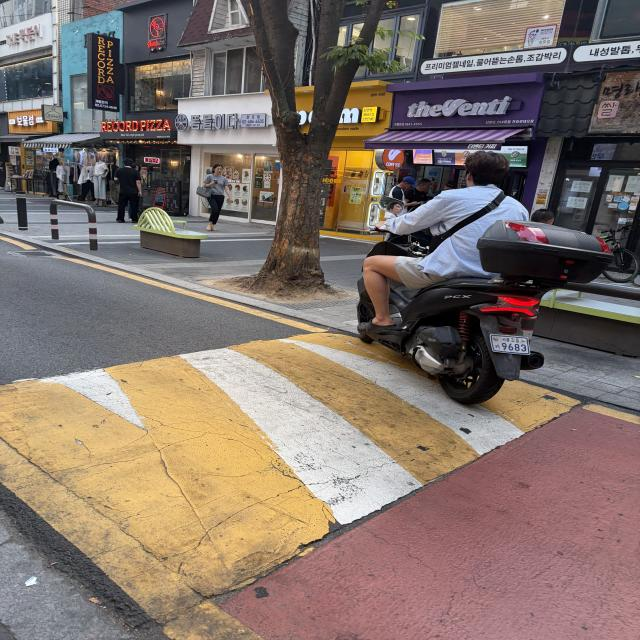motorcycle: (348, 147, 622, 414)
